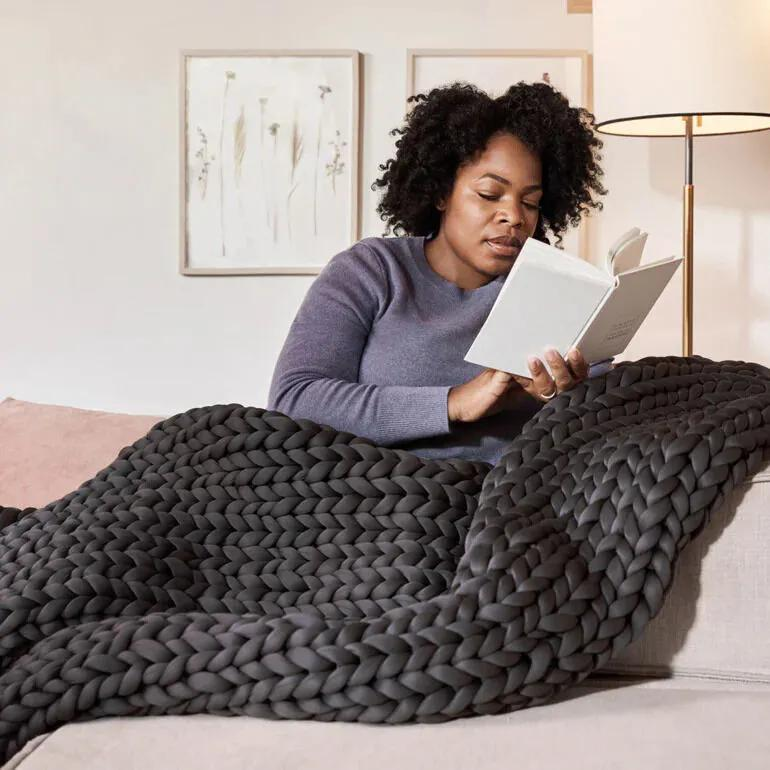blanket: (0, 351, 768, 770)
sweater: (263, 232, 616, 474)
